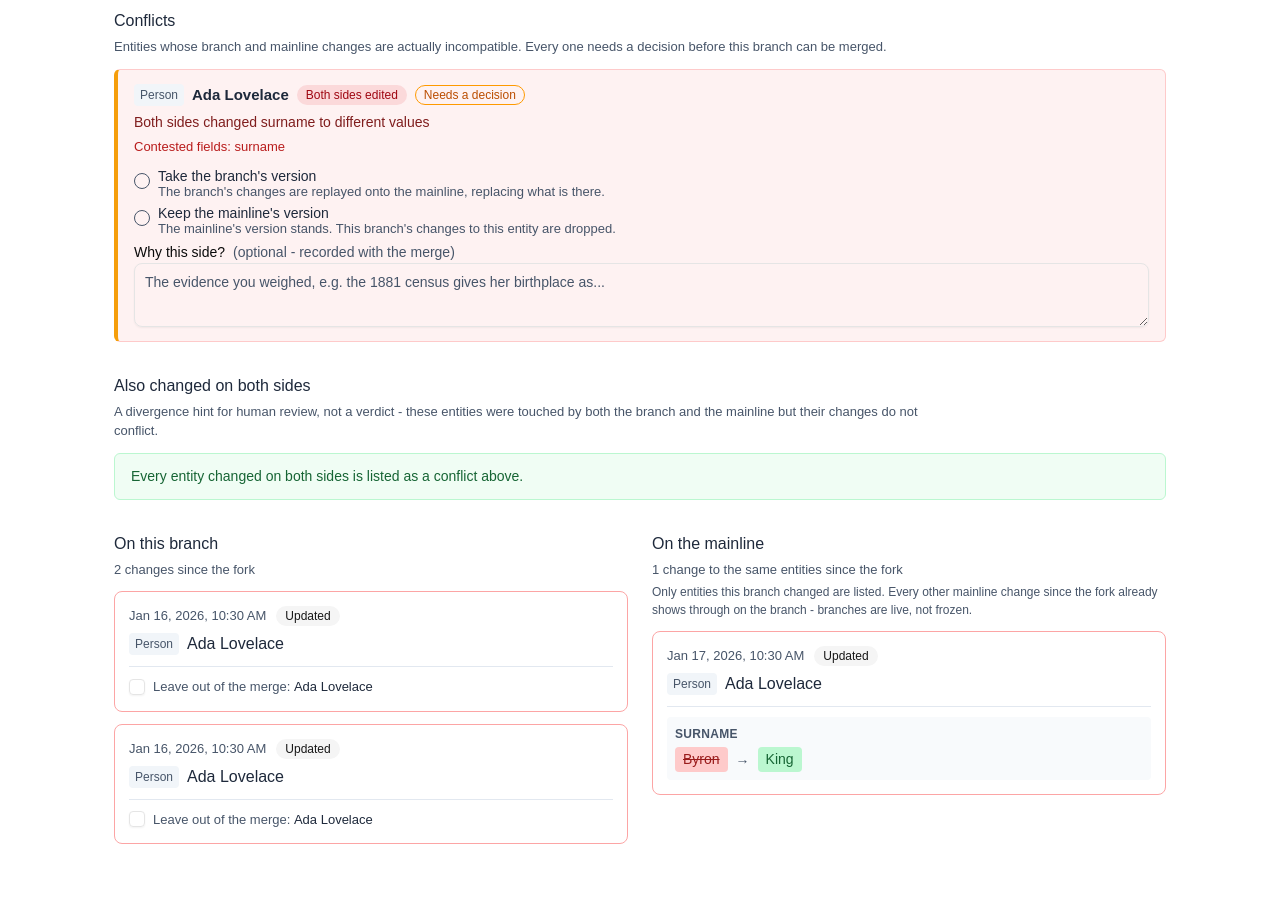
Scenario: Branch comparison page › merge review › toggles exclusion per entity, not per change entry
(page scrolled)
Click the 1st checkbox named "Leave out of the merge: Ada Lovelace" at [137, 687], box [129,679,145,695]
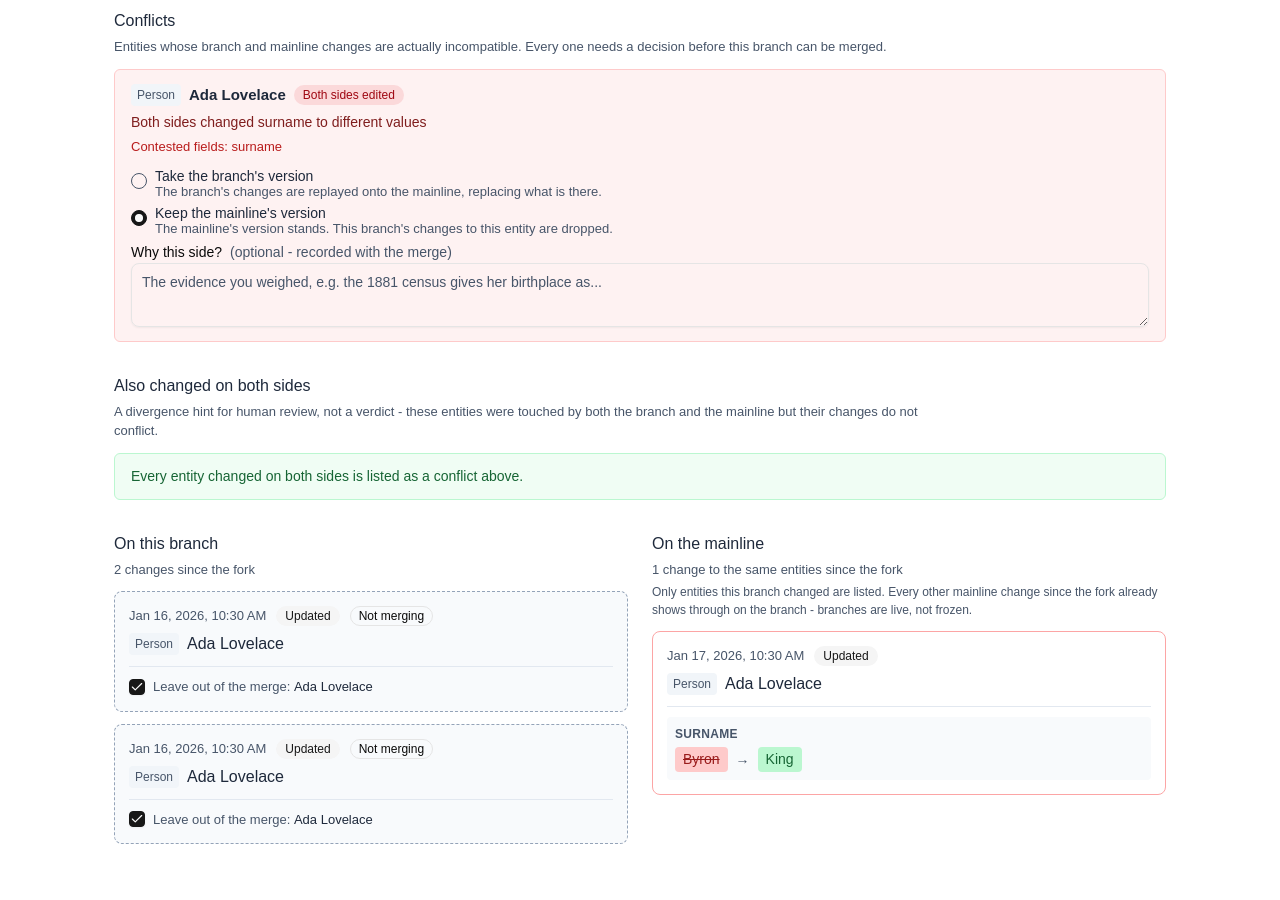
Now the text "Not merging" is shown 2 times, box [350,606,433,626]; [350,738,433,758]
